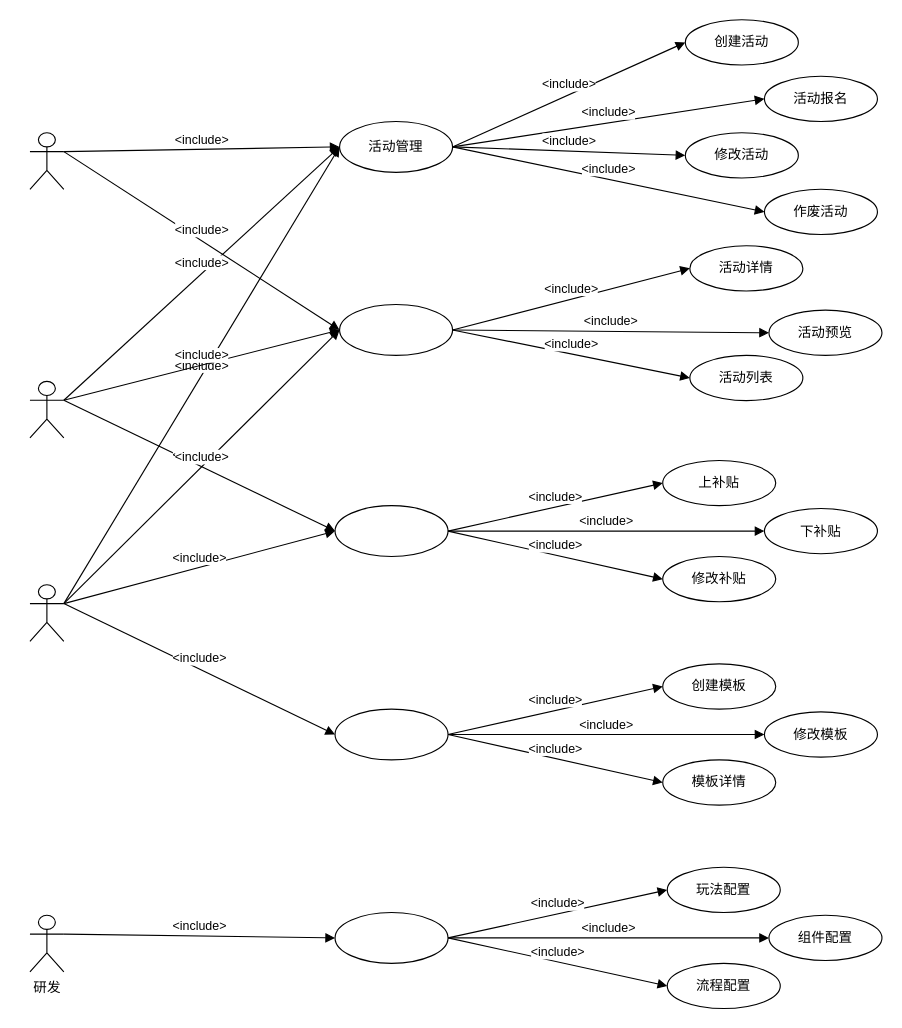
Some shapes in this 902 by 1028 pixel diagram are drawn without their labels. Each missing label, with the box of its shape:
BD: (29, 380, 64, 438)
商户: (29, 132, 64, 189)
平台运营: (29, 584, 64, 641)
模板管理: (334, 708, 448, 760)
活动查询: (338, 303, 453, 355)
玩法定义: (334, 911, 448, 963)
补贴管理: (334, 505, 448, 557)
